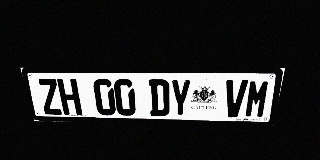0: (92, 79, 116, 116), (113, 79, 136, 116)
D: (149, 79, 169, 116)
H: (57, 79, 82, 115)
M: (244, 80, 271, 118)
V: (223, 80, 248, 118)
Y: (170, 79, 191, 117)
Z: (36, 79, 63, 115)
